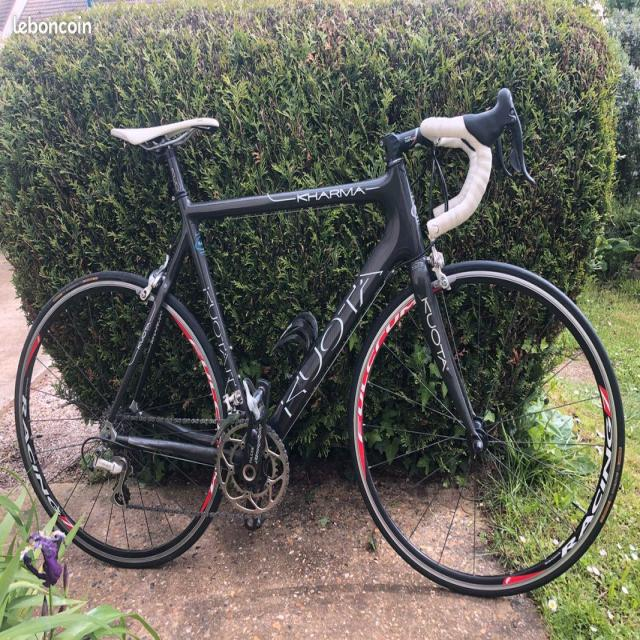Bike: (14, 89, 624, 596)
